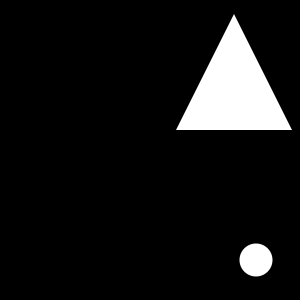rectangle: (240, 244, 273, 276)
triangle: (176, 14, 292, 130)
